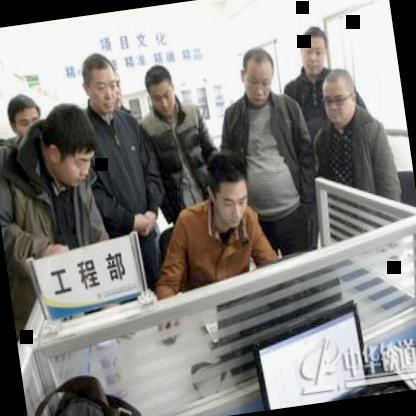head: (32, 100, 102, 192), (200, 140, 258, 230), (76, 46, 126, 122), (316, 64, 364, 130), (234, 42, 282, 107), (139, 59, 181, 122), (294, 20, 336, 80), (1, 87, 46, 142)
helmet: (34, 369, 116, 416)
